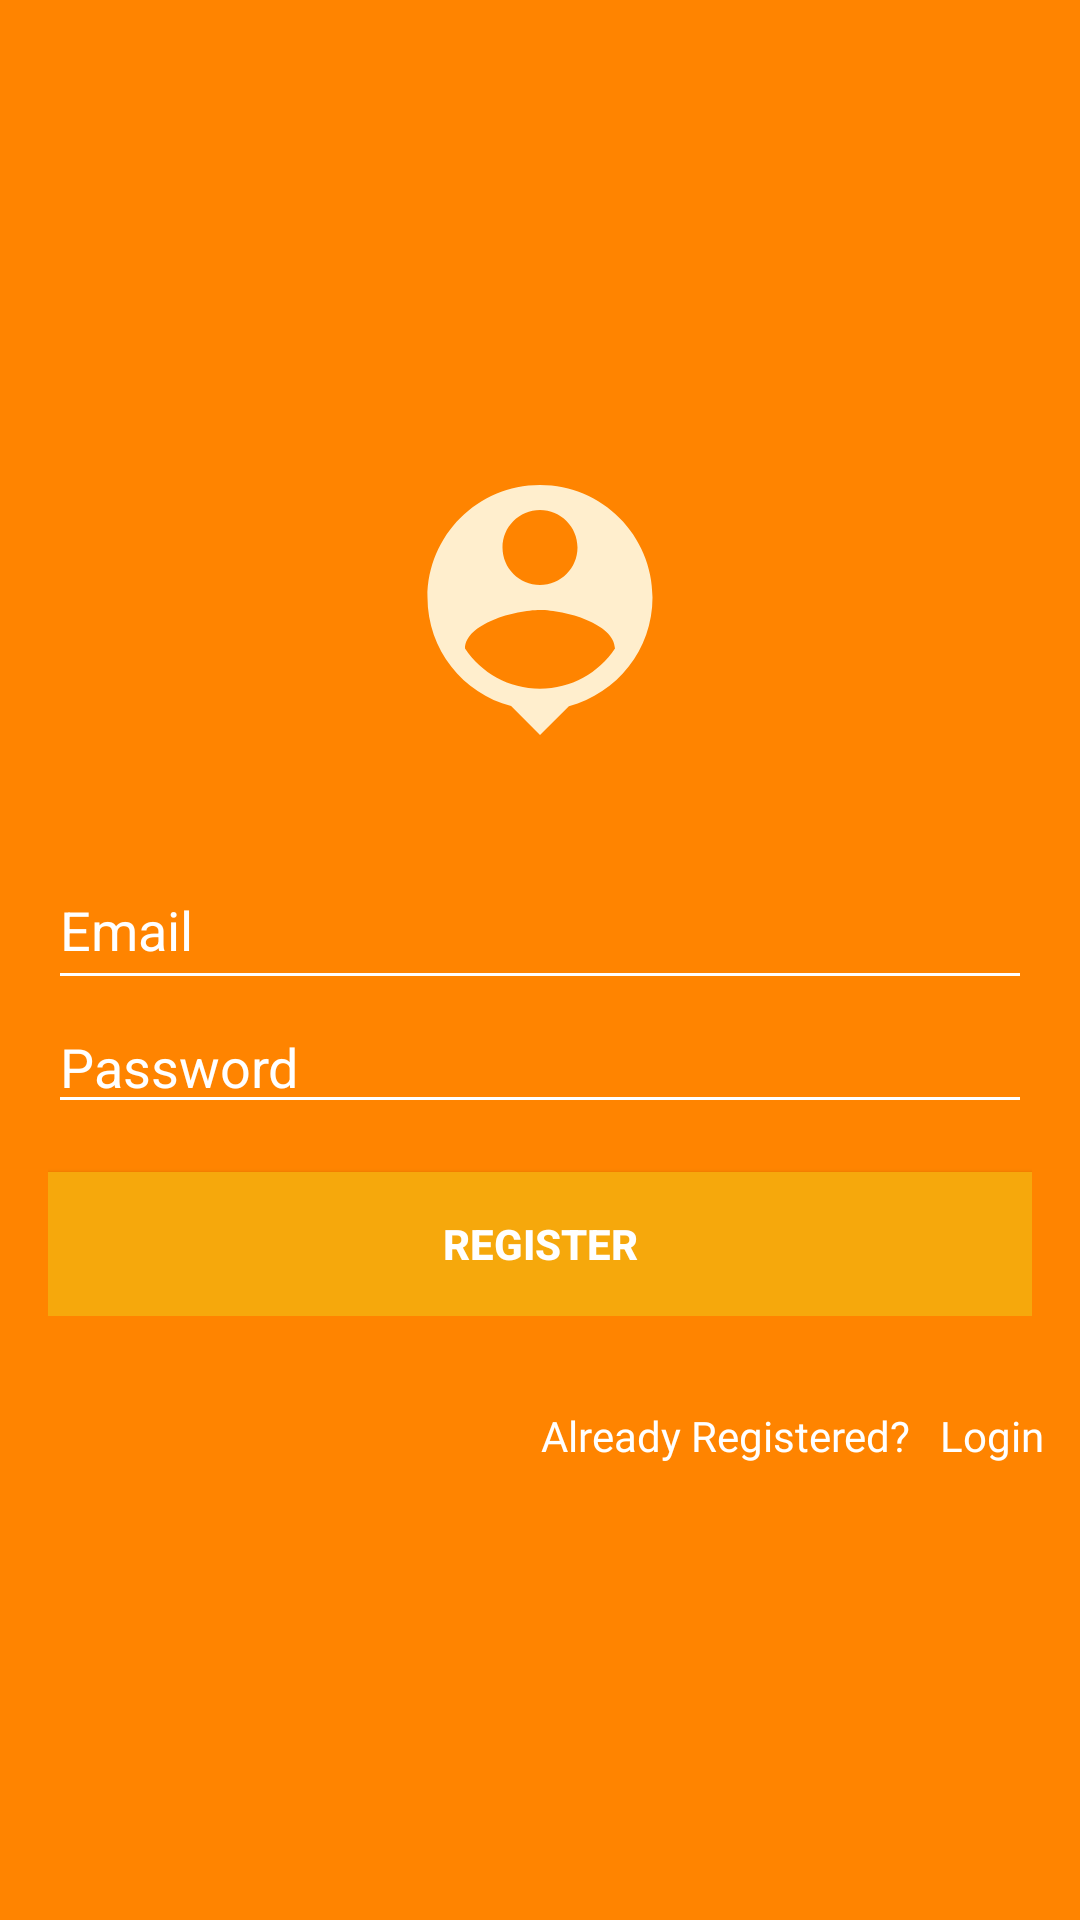

Where to tap for icons on this 1080×1920 app screen, as (x=x, y=y):
person pin: (x=540, y=610)
